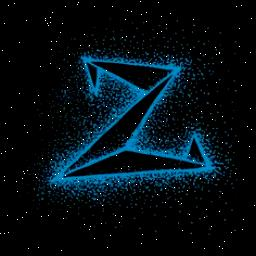z: (32, 42, 230, 202)
